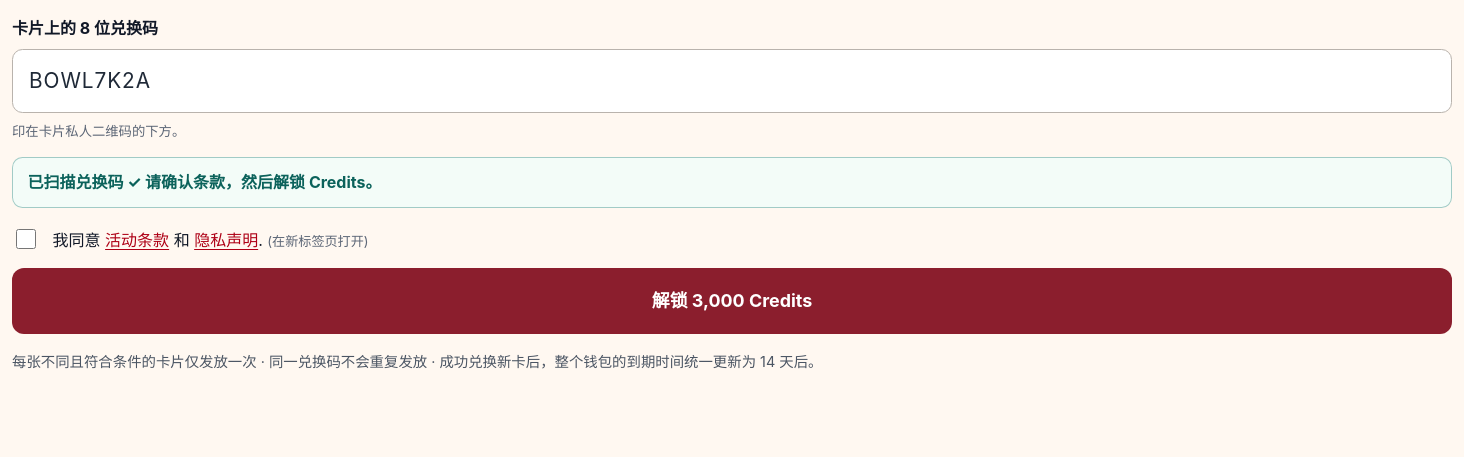
RedeemForm › maps a paused validation response to explicit localized guidance in zh
Click the checkbox named "termsAccepted": (26, 239) x1=16 y1=229 x2=36 y2=249
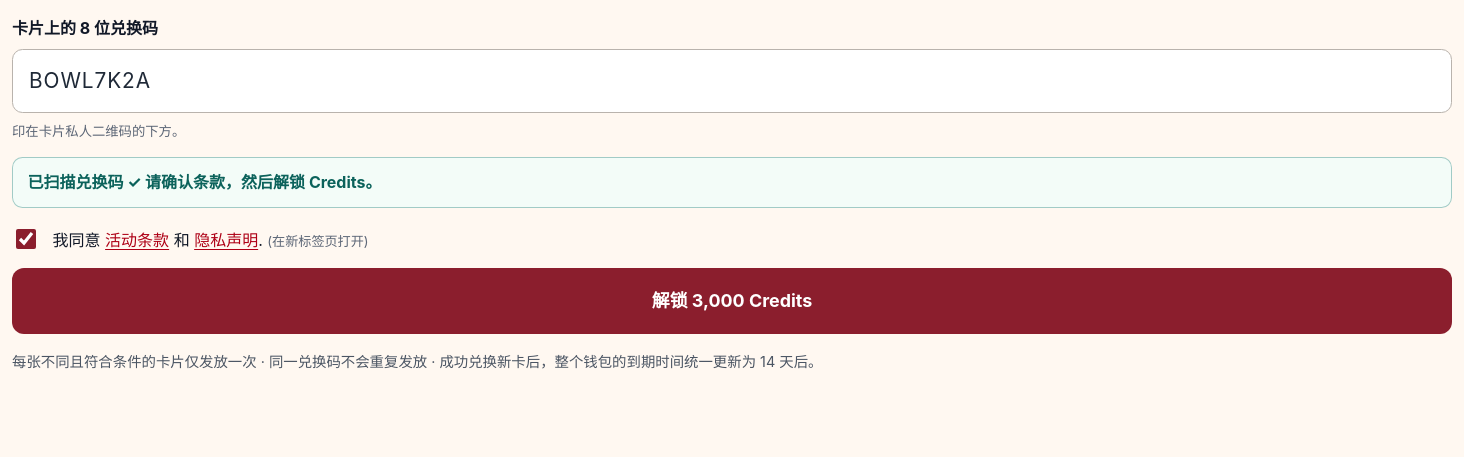
Submit the form
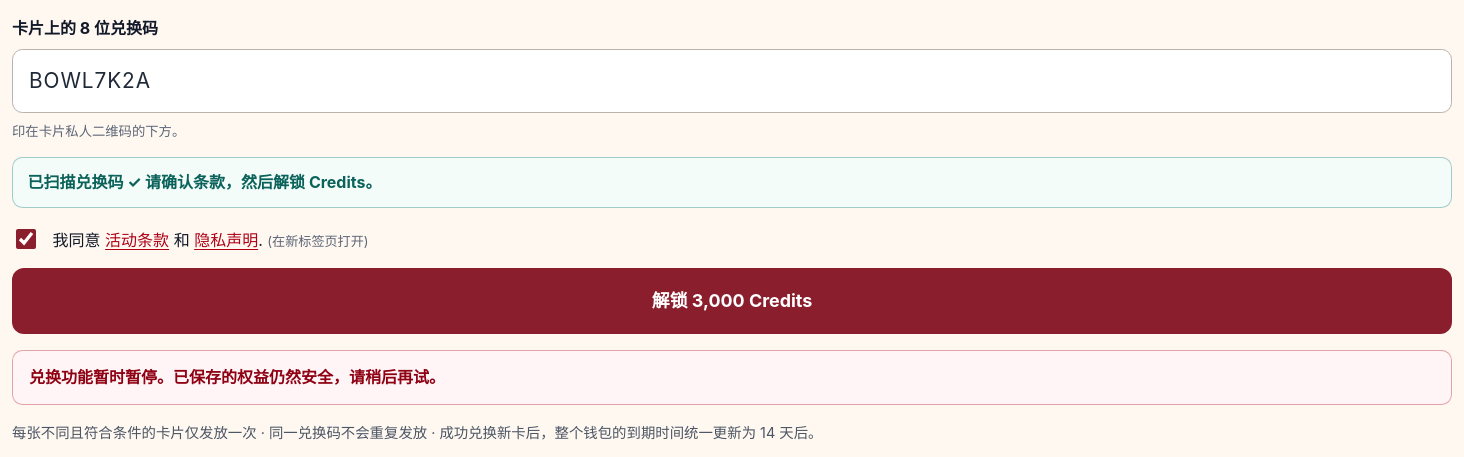
Expected: the text "兑换功能暂时暂停。已保存的权益仍然安全，请稍后再试。" is shown, x1=29 y1=365 x2=445 y2=389
